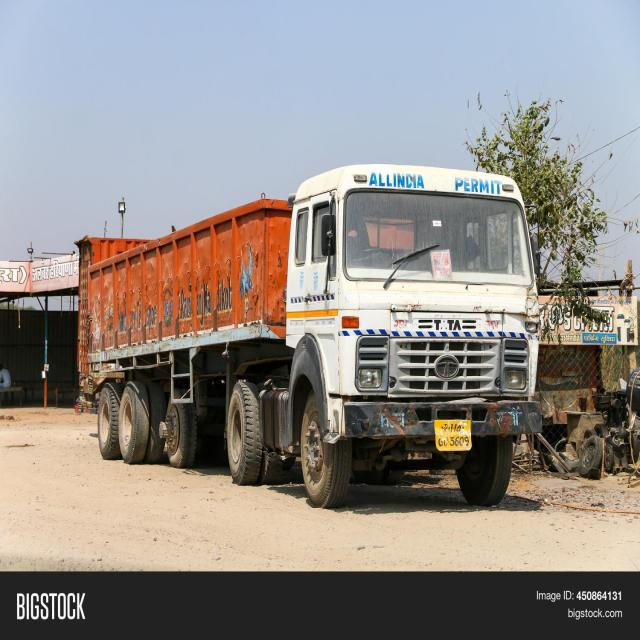truck: (76, 164, 544, 507)
